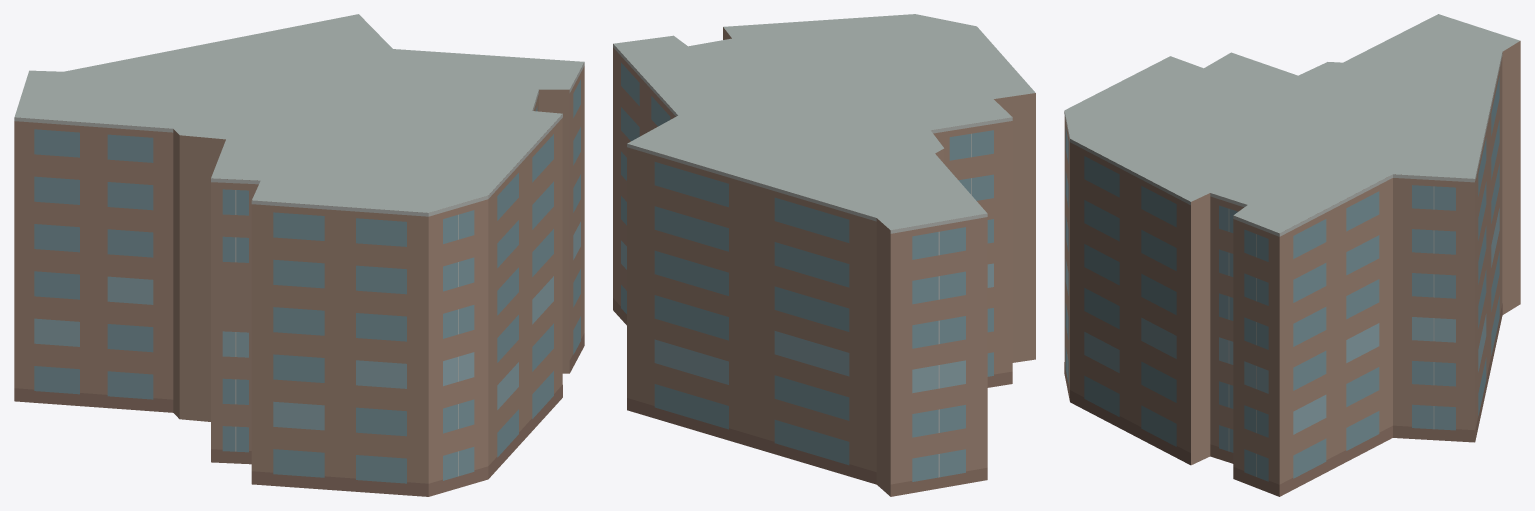
Rendered from survey-upis-32714823.glb.
3 renders of one model, left to right at view 1: azimuth 30°, elevation 25°; view 2: azimuth 150°, elevation 25°; view 3: azimuth 270°, elevation 25°, orthographic. The views are drawn at different scales.
Visible parts, largest first — view 1: survey-upis-32714823.tmp; view 2: survey-upis-32714823.tmp; view 3: survey-upis-32714823.tmp.
Part boxes in pixels (bbox=[...]): survey-upis-32714823.tmp: bbox=[14, 14, 584, 496]; survey-upis-32714823.tmp: bbox=[613, 14, 1035, 496]; survey-upis-32714823.tmp: bbox=[1064, 14, 1520, 496].
Bounding box in the file's own units: 32.59 × 18.25 × 28.63.
